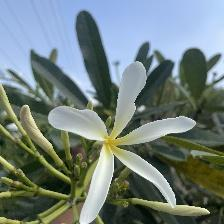champaka: (48, 59, 201, 224)
